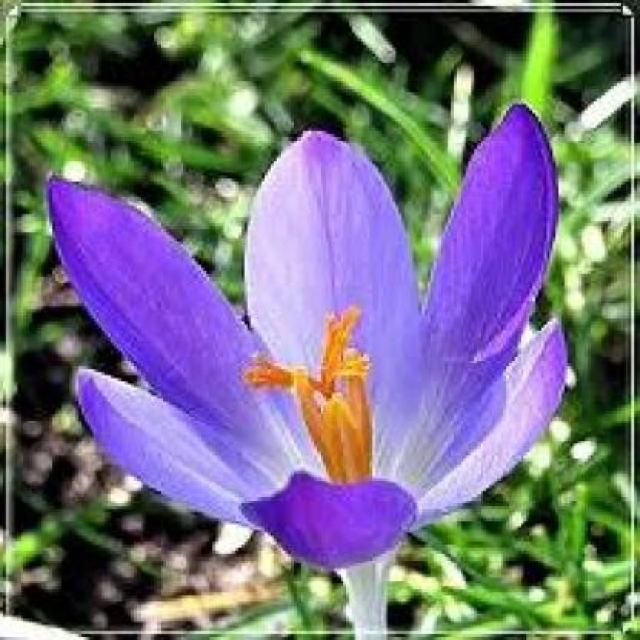saffron open: (50, 108, 567, 576)
